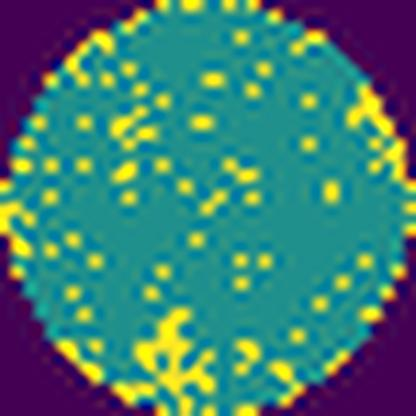Edge-Loc: (135, 306, 216, 416)
